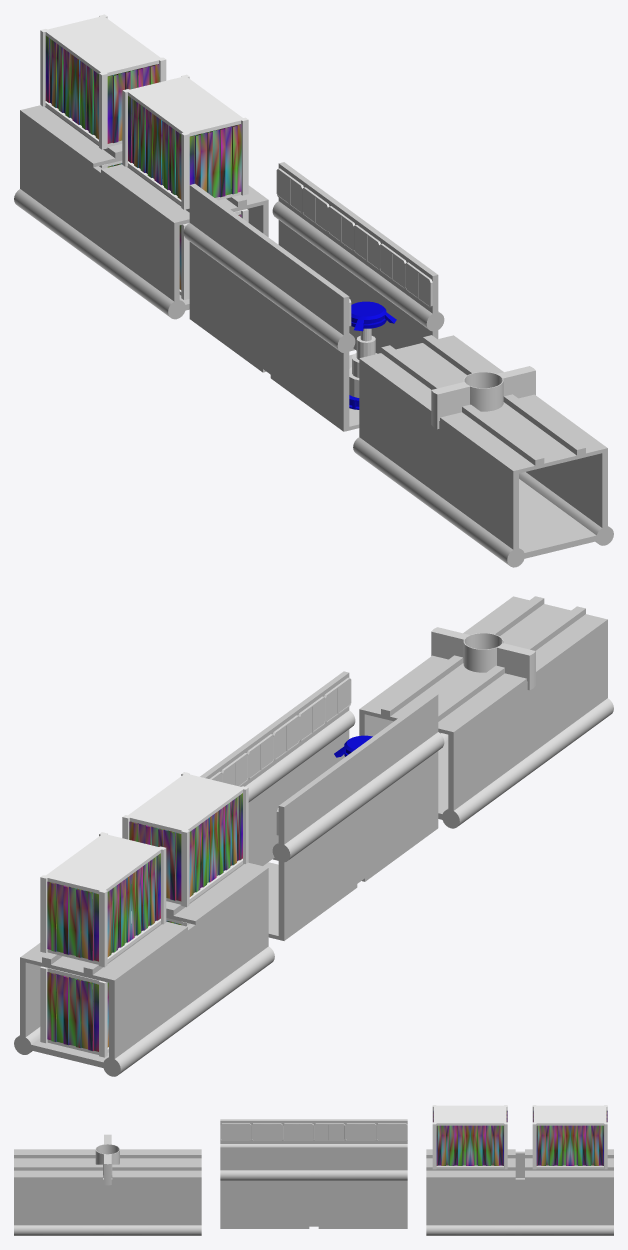
Rendered from Train_Upgrade_Version.fbx.
The picture shows the model from 3 angles, top to bottom: view 1: azimuth 30°, elevation 25°; view 2: azimuth 150°, elevation 25°; view 3: azimuth 270°, elevation 25°; orthographic projection. The views are drawn at different scales.
Visible parts, largest first — view 1: Cylinder.009, Cylinder.001, Cylinder.002, Cylinder.004, Basic_Container.001, Cylinder.003, Basic_Container.003, Basic.WallRun.Train.5m.001, Container_Back_MAT01_0_003.002, Container_Back_MAT01_0_003.001, Cylinder.010, Container_Back_MAT01_0_004.001 (+3 smaller); view 2: Cylinder.009, Cylinder.001, Cylinder.002, Cylinder.004, Basic_Container.003, Basic_Container.001, Cylinder.003, Basic.WallRun.Train.5m.001, Container_Back_MAT01_0_003.001, Container_Back_MAT01_0_003.002, Container_Back_MAT01_0_004.002, Container_Back_MAT01_0_004.003 (+3 smaller); view 3: Cylinder.009, Cylinder.001, Cylinder.002, Cylinder.003, Basic.WallRun.Train.5m, Container_Back_MAT01_0_003.001, Container_Back_MAT01_0_003.002, Basic_Container.001, Basic_Container.003, Cylinder.004, Cylinder.010.
Part boxes in pixels (bbox=[...]): Cylinder.009: bbox=[353, 335, 613, 567]; Cylinder.001: bbox=[14, 105, 268, 319]; Cylinder.002: bbox=[189, 220, 438, 431]; Cylinder.004: bbox=[183, 184, 355, 353]; Basic_Container.001: bbox=[122, 74, 248, 209]; Cylinder.003: bbox=[272, 162, 444, 331]; Basic_Container.003: bbox=[40, 14, 166, 149]; Basic.WallRun.Train.5m.001: bbox=[276, 168, 432, 307]; Container_Back_MAT01_0_003.002: bbox=[45, 35, 158, 139]; Container_Back_MAT01_0_003.001: bbox=[128, 96, 240, 199]; Cylinder.010: bbox=[431, 366, 535, 429]; Container_Back_MAT01_0_004.001: bbox=[189, 124, 241, 197]; Cylinder.009: bbox=[359, 596, 613, 828]; Cylinder.001: bbox=[14, 862, 274, 1076]; Cylinder.002: bbox=[248, 729, 438, 940]; Cylinder.004: bbox=[272, 693, 444, 862]; Basic_Container.003: bbox=[40, 832, 166, 967]; Basic_Container.001: bbox=[122, 772, 248, 907]; Cylinder.003: bbox=[200, 671, 355, 802]; Basic.WallRun.Train.5m.001: bbox=[209, 677, 351, 786]; Container_Back_MAT01_0_003.001: bbox=[130, 793, 242, 896]; Container_Back_MAT01_0_003.002: bbox=[48, 853, 160, 956]; Container_Back_MAT01_0_004.002: bbox=[47, 881, 131, 961]; Container_Back_MAT01_0_004.003: bbox=[47, 972, 98, 1051]; Cylinder.009: bbox=[14, 1149, 201, 1235]; Cylinder.001: bbox=[426, 1149, 613, 1235]; Cylinder.002: bbox=[220, 1181, 407, 1228]; Cylinder.003: bbox=[220, 1145, 407, 1180]; Basic.WallRun.Train.5m: bbox=[220, 1123, 407, 1140]; Container_Back_MAT01_0_003.001: bbox=[436, 1125, 503, 1165]; Container_Back_MAT01_0_003.002: bbox=[536, 1125, 603, 1165]; Basic_Container.001: bbox=[432, 1105, 507, 1169]; Basic_Container.003: bbox=[532, 1105, 607, 1169]; Cylinder.004: bbox=[220, 1119, 407, 1145]; Cylinder.010: bbox=[95, 1134, 119, 1185].
Bounding box in the file's own units: 1200 × 1900 × 9600.
